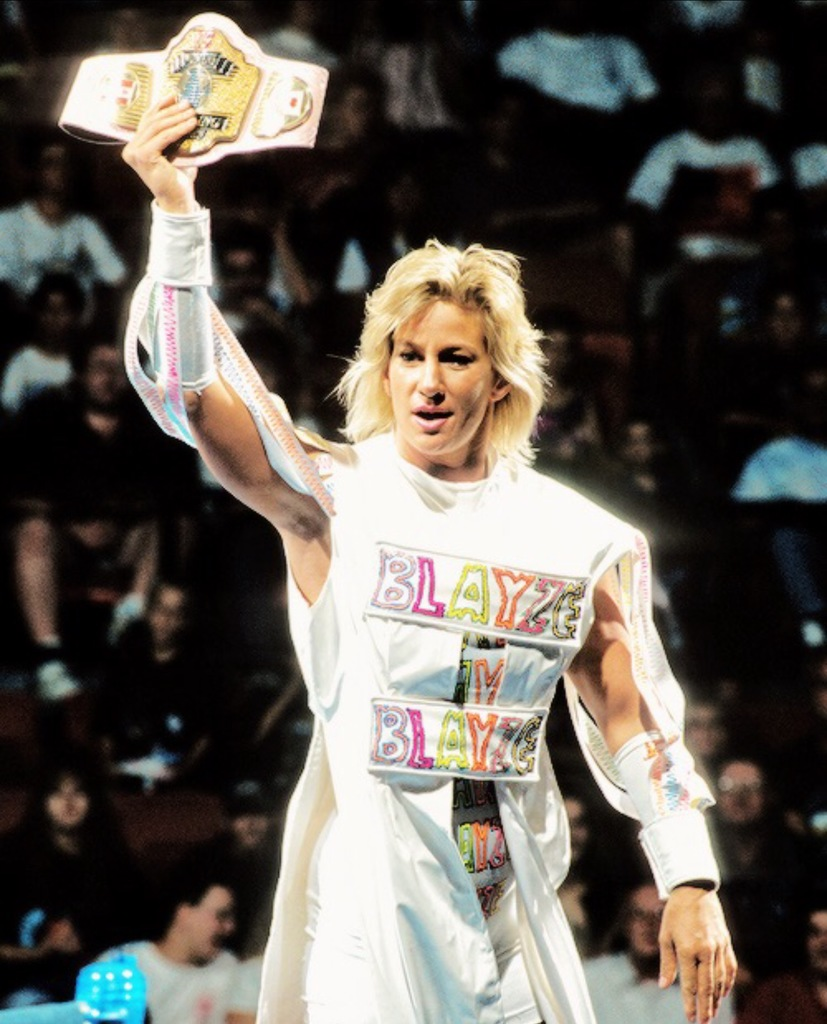Person: (0, 0, 827, 1024)
